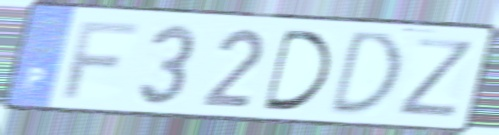2: (198, 26, 267, 111)
3: (135, 20, 199, 109)
D: (324, 28, 404, 118), (261, 26, 334, 114)
F: (59, 19, 142, 102)
Z: (394, 35, 478, 120)
